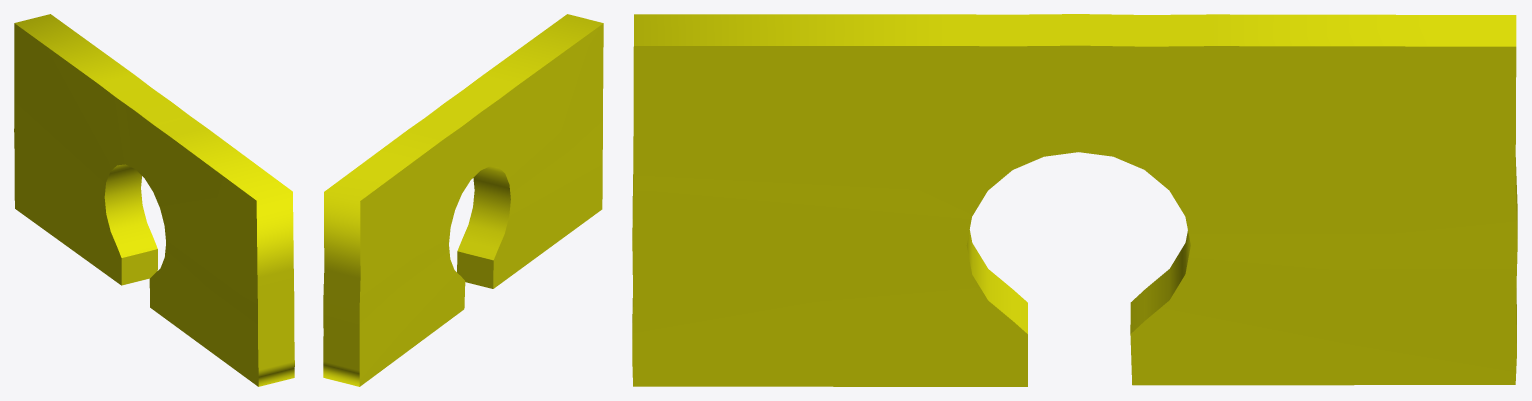
File: yellow circle wall.fbx
The picture shows the model from 3 angles, left to right: view 1: azimuth 30°, elevation 25°; view 2: azimuth 150°, elevation 25°; view 3: azimuth 270°, elevation 25°; orthographic projection. The views are drawn at different scales.
Parts seen in each view (by area): view 1: pPipe1; view 2: pPipe1; view 3: pPipe1.
Part boxes in pixels (x1=…): pPipe1: x1=14, y1=14, x2=294, y2=386; pPipe1: x1=323, y1=14, x2=603, y2=386; pPipe1: x1=632, y1=14, x2=1517, y2=386.
Size of the model in its own units: 0.1843 by 0.8636 by 2.04.
